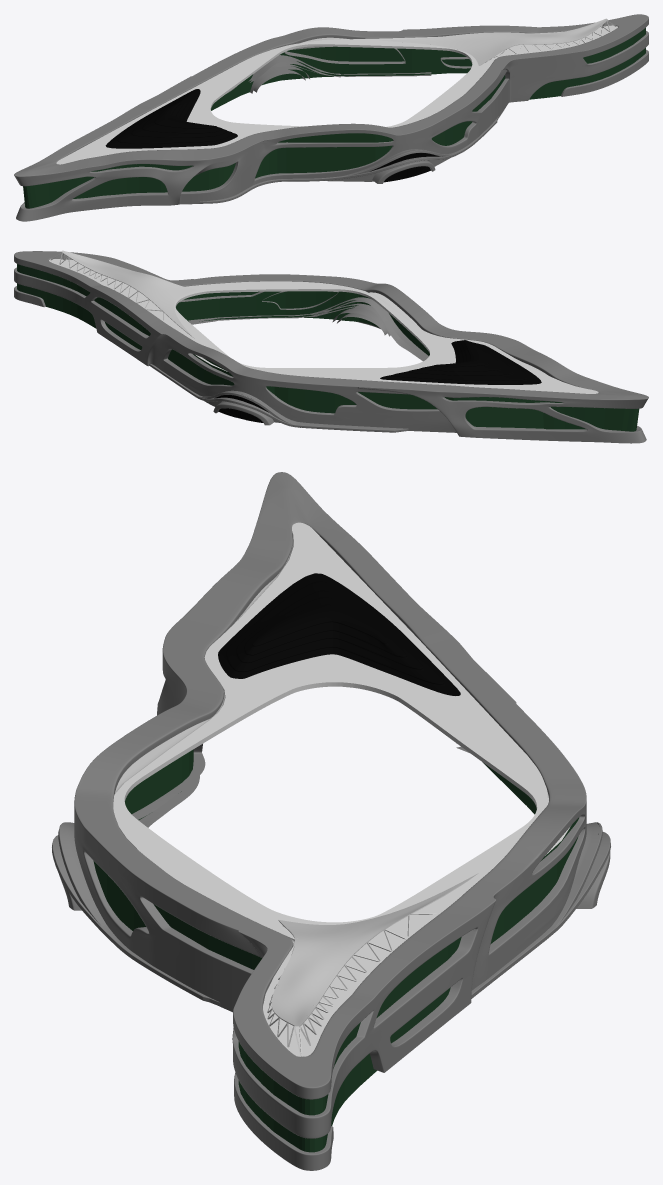
Rendered from Stadium_v04.fbx.
The picture shows the model from 3 angles, top to bottom: view 1: azimuth 30°, elevation 25°; view 2: azimuth 150°, elevation 25°; view 3: azimuth 270°, elevation 25°; orthographic projection. The views are drawn at different scales.
Parts seen in each view (by area): view 1: Exterior_Lines, Wall, Stadium_03, Glass, Stadium_02, Stadium_05, Object001; view 2: Exterior_Lines, Wall, Stadium_03, Stadium_02, Glass, Stadium_05, Object003; view 3: Exterior_Lines, Stadium_03, Glass, Wall, Stadium_05, Stadium_02.
Boxes of the visible parts, bbox=[...] form: Exterior_Lines: bbox=[14, 14, 648, 221]; Wall: bbox=[23, 28, 645, 208]; Stadium_03: bbox=[56, 25, 617, 164]; Glass: bbox=[105, 89, 237, 148]; Stadium_02: bbox=[188, 55, 499, 204]; Stadium_05: bbox=[379, 18, 616, 65]; Object001: bbox=[370, 153, 439, 178]; Exterior_Lines: bbox=[14, 251, 648, 443]; Wall: bbox=[17, 264, 639, 431]; Stadium_03: bbox=[49, 259, 598, 393]; Stadium_02: bbox=[149, 297, 426, 432]; Glass: bbox=[380, 340, 541, 384]; Stadium_05: bbox=[51, 250, 195, 338]; Object003: bbox=[215, 395, 268, 419]; Exterior_Lines: bbox=[74, 472, 586, 1170]; Stadium_03: bbox=[113, 522, 570, 1056]; Glass: bbox=[218, 573, 460, 695]; Wall: bbox=[93, 749, 579, 1152]; Stadium_05: bbox=[267, 873, 478, 1056]; Stadium_02: bbox=[52, 743, 610, 1006].
Bounding box in the file's own units: 98481 × 8034 × 38106.
